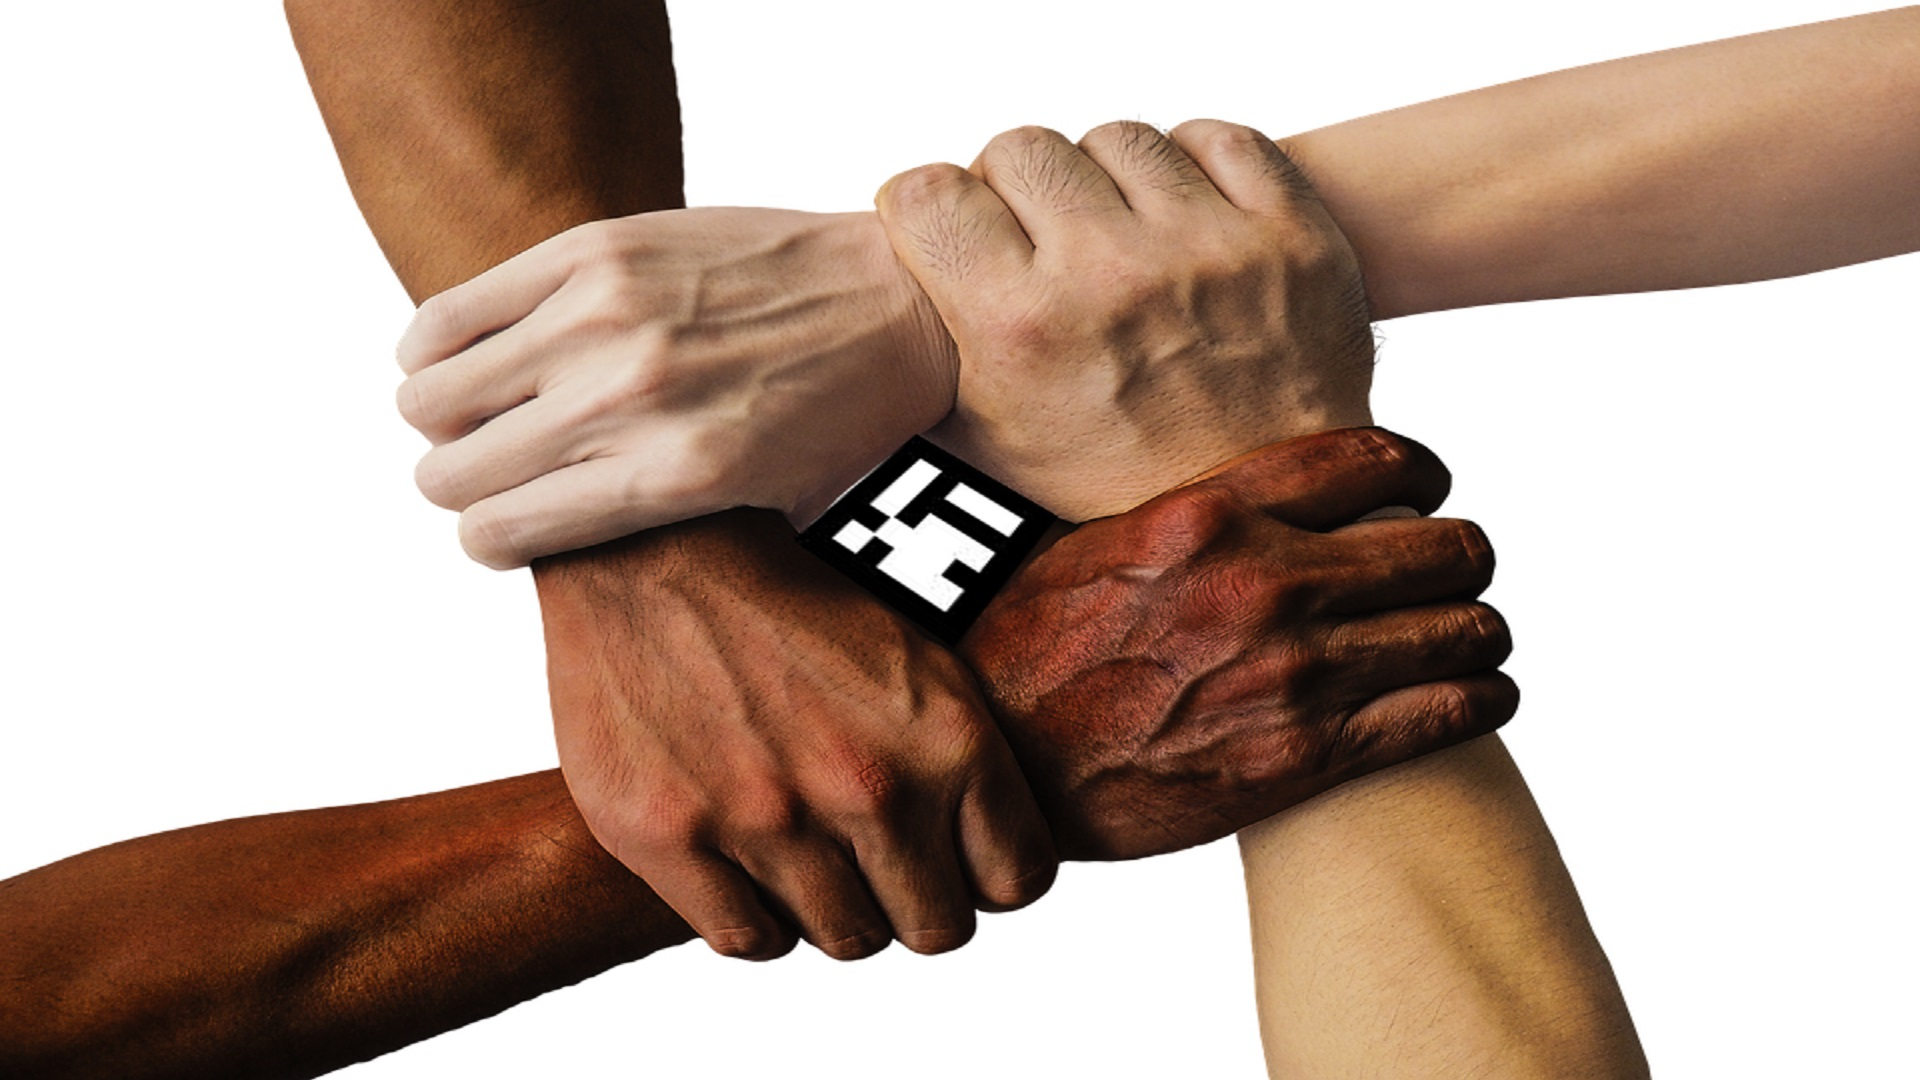marker: (794, 433, 1058, 642)
